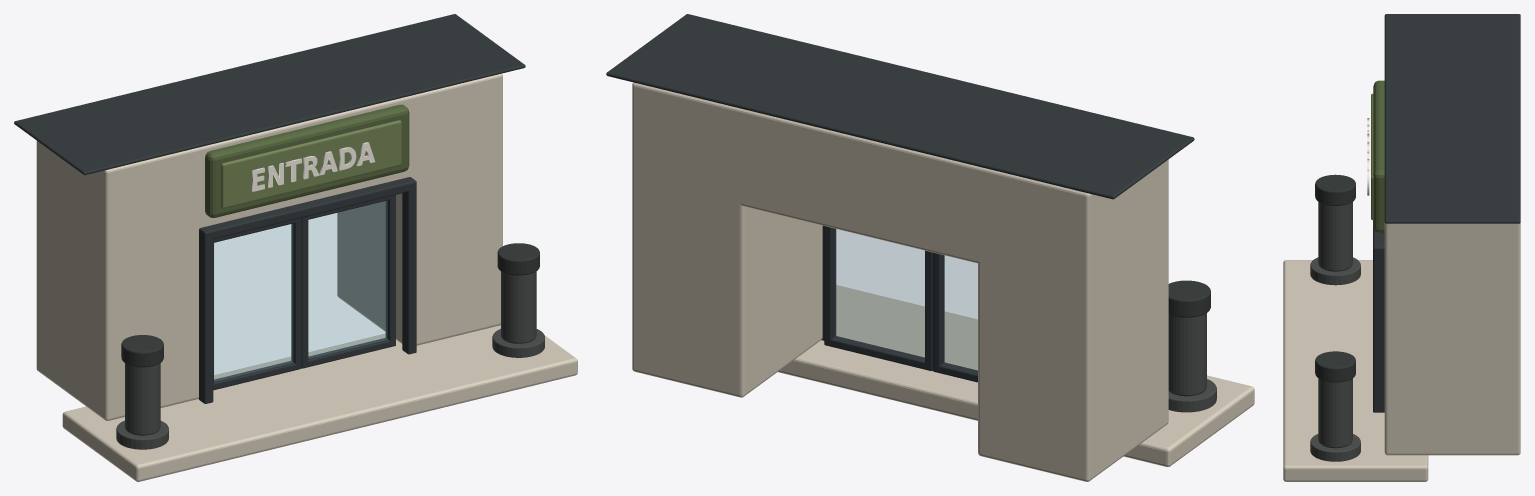
Rendered from StoreEntrance.locked.glb.
The picture shows the model from 3 angles, left to right: view 1: azimuth 30°, elevation 25°; view 2: azimuth 150°, elevation 25°; view 3: azimuth 270°, elevation 25°; orthographic projection. The views are drawn at different scales.
Parts seen in each view (by area): view 1: EntranceBody, EntranceSign, EntranceGlassRight, EntranceGlassLeft, EntrancePortalTrim, EntranceBollardLeft, EntranceBollardRight, EntranceFrameRight, EntranceFrameLeft, Text; view 2: EntranceBody, EntranceGlassRight, EntranceBollardLeft, EntranceGlassLeft, EntranceFrameRight, EntranceFrameLeft; view 3: EntranceBody, EntranceBollardRight, EntranceBollardLeft, EntrancePortalTrim, EntranceSign.
Part boxes in pixels (x1,y1,x2,y2): EntranceBody: (14,14,577,481); EntranceSign: (205,104,409,217); EntranceGlassRight: (308,201,387,358); EntranceGlassLeft: (214,224,293,381); EntrancePortalTrim: (199,177,416,403); EntranceBollardLeft: (116,335,168,449); EntranceBollardRight: (492,243,544,357); EntranceFrameRight: (301,195,395,368); EntranceFrameLeft: (213,218,301,390); Text: (252,142,375,191); EntranceBody: (606,14,1254,481); EntranceGlassRight: (836,229,924,357); EntranceBollardLeft: (1168,280,1216,412); EntranceGlassLeft: (944,256,977,370); EntranceFrameRight: (824,226,932,370); EntranceFrameLeft: (932,252,977,382); EntranceBody: (1283,14,1520,481); EntranceBollardRight: (1310,351,1360,461); EntranceBollardLeft: (1310,174,1360,285); EntrancePortalTrim: (1373,220,1384,412); EntranceSign: (1371,80,1384,233).
Bounding box in the file's own units: 3 × 1.76 × 1.45.
